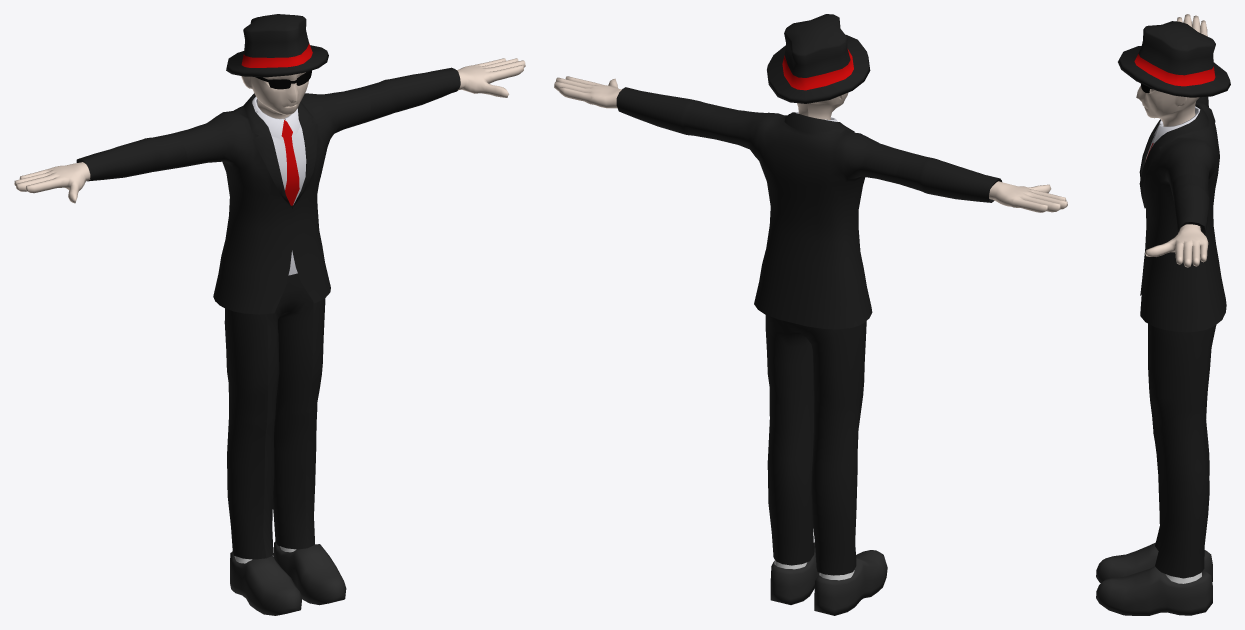
Rendered from Enemy_model.fbx.
3 renders of one model, left to right at view 1: azimuth 30°, elevation 25°; view 2: azimuth 150°, elevation 25°; view 3: azimuth 270°, elevation 25°, orthographic.
Parts seen in each view (by area): view 1: suit1, zubon, Hat, Arm, Shoes_right, Shoes_left, Yshirt, Enemy_head; view 2: suit1, zubon, Hat, Arm, Shoes_right, Shoes_left, Enemy_head; view 3: suit1, zubon, Hat, Shoes_left, Arm, Shoes_right, Enemy_head, Yshirt_neck, kutusita_left.
Boxes of the visible parts, bbox=[...] form: suit1: bbox=[76, 67, 460, 314]; zubon: bbox=[224, 273, 325, 559]; Hat: bbox=[226, 14, 328, 77]; Arm: bbox=[14, 58, 525, 203]; Shoes_right: bbox=[230, 551, 301, 615]; Shoes_left: bbox=[273, 541, 346, 605]; Yshirt: bbox=[253, 99, 306, 275]; Enemy_head: bbox=[241, 72, 308, 119]; suit1: bbox=[616, 87, 1001, 329]; zubon: bbox=[765, 315, 866, 575]; Hat: bbox=[767, 14, 870, 103]; Arm: bbox=[554, 76, 1067, 212]; Shoes_right: bbox=[814, 550, 887, 615]; Shoes_left: bbox=[770, 542, 819, 604]; Enemy_head: bbox=[797, 92, 848, 119]; suit1: bbox=[1139, 96, 1226, 332]; zubon: bbox=[1148, 323, 1216, 578]; Hat: bbox=[1118, 21, 1230, 97]; Shoes_left: bbox=[1096, 566, 1212, 615]; Arm: bbox=[1145, 14, 1208, 267]; Shoes_right: bbox=[1096, 542, 1212, 582]; Enemy_head: bbox=[1136, 85, 1199, 126]; Yshirt_neck: bbox=[1153, 106, 1200, 143]; kutusita_left: bbox=[1165, 572, 1201, 583].
Size of the model in its own units: 160 by 171 by 36.77.
